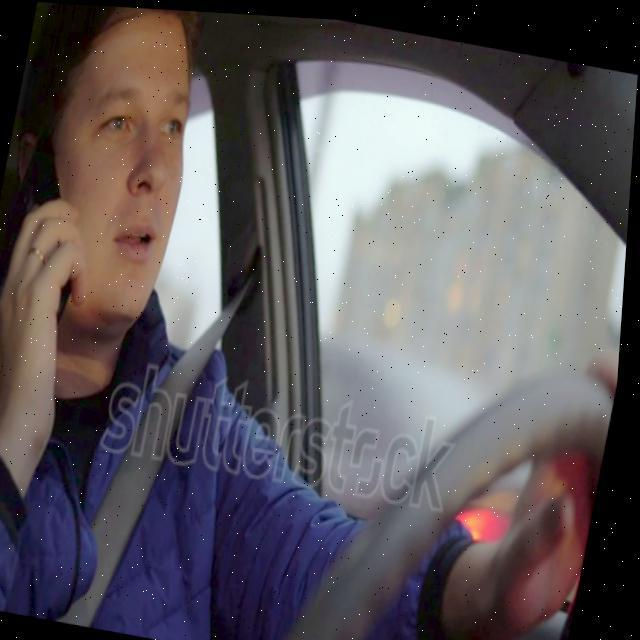PhoneCall: (0, 136, 102, 334)
